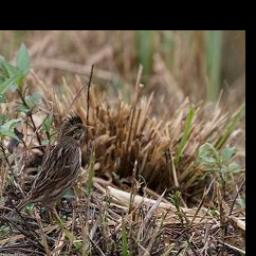Sparrow: (3, 111, 92, 234)
